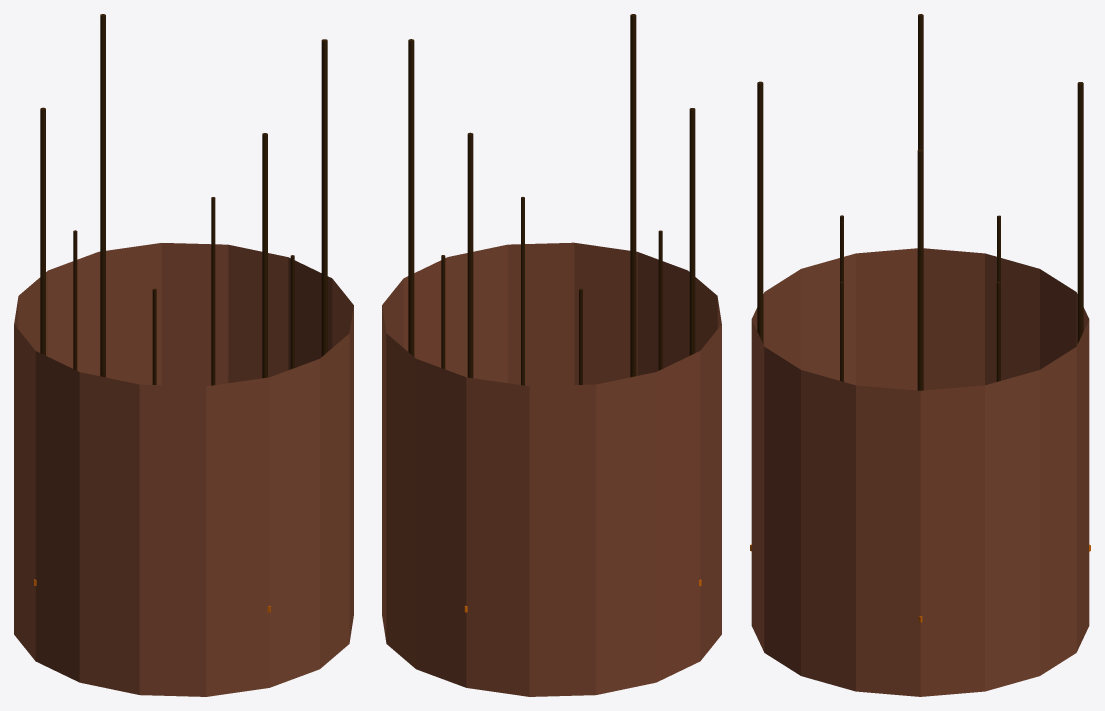
Rendered from GiantDrill.fbx.
3 views of the same model, side by side, from view 1: azimuth 30°, elevation 25°; view 2: azimuth 150°, elevation 25°; view 3: azimuth 270°, elevation 25° (orthographic).
Parts seen in each view (by area): view 1: Cylinder.001, Cube.003, Cube.001; view 2: Cylinder.001, Cube.003, Cube.001; view 3: Cylinder.001, Cube.003, Cube.001.
Boxes of the visible parts, bbox=[...] form: Cylinder.001: bbox=[14, 243, 353, 696]; Cube.003: bbox=[34, 14, 327, 612]; Cube.001: bbox=[73, 197, 294, 385]; Cylinder.001: bbox=[382, 242, 721, 696]; Cube.003: bbox=[408, 14, 701, 612]; Cube.001: bbox=[441, 197, 662, 385]; Cylinder.001: bbox=[751, 248, 1089, 696]; Cube.003: bbox=[750, 14, 1090, 622]; Cube.001: bbox=[840, 215, 1000, 381].
Bounding box in the file's own units: 5157 × 9058 × 5157.
